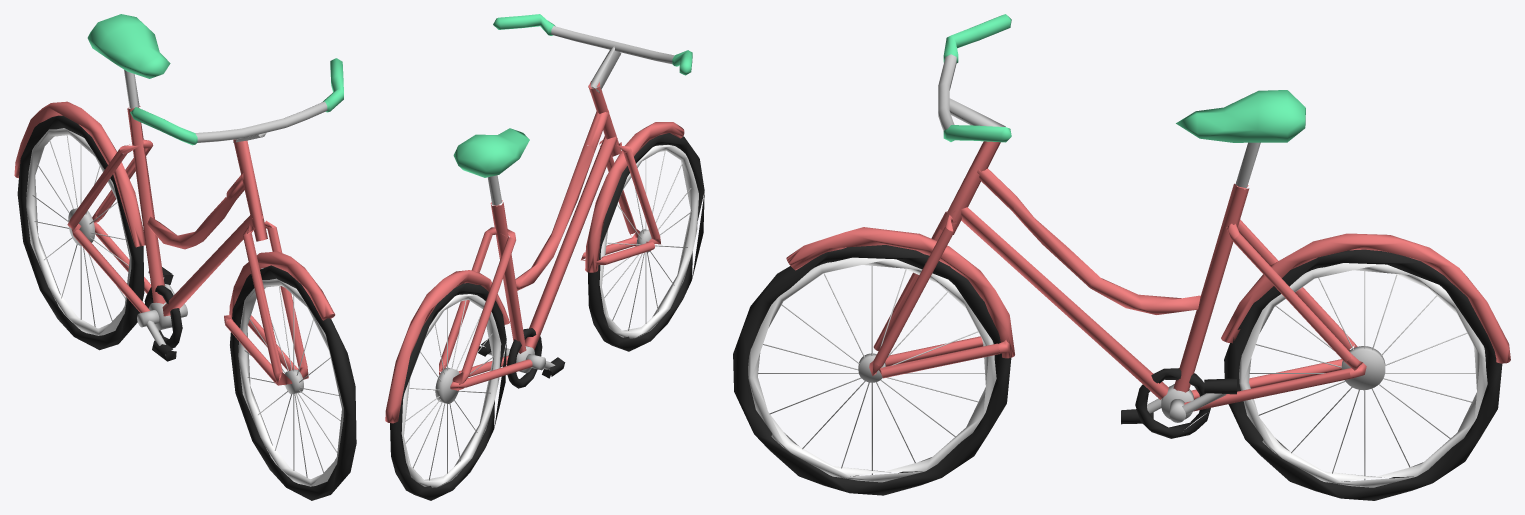
3 views of the same model, side by side, from view 1: azimuth 30°, elevation 25°; view 2: azimuth 150°, elevation 25°; view 3: azimuth 270°, elevation 25° (orthographic). The views are drawn at different scales.
Visible parts, largest first — view 1: Null.1; view 2: Null.1; view 3: Null.1.
Boxes of the visible parts, x1=… form: Null.1: x1=14, y1=14, x2=356, y2=500; Null.1: x1=385, y1=14, x2=704, y2=500; Null.1: x1=733, y1=14, x2=1510, y2=500.
Bounding box in the file's own units: 309 × 524 × 862.
